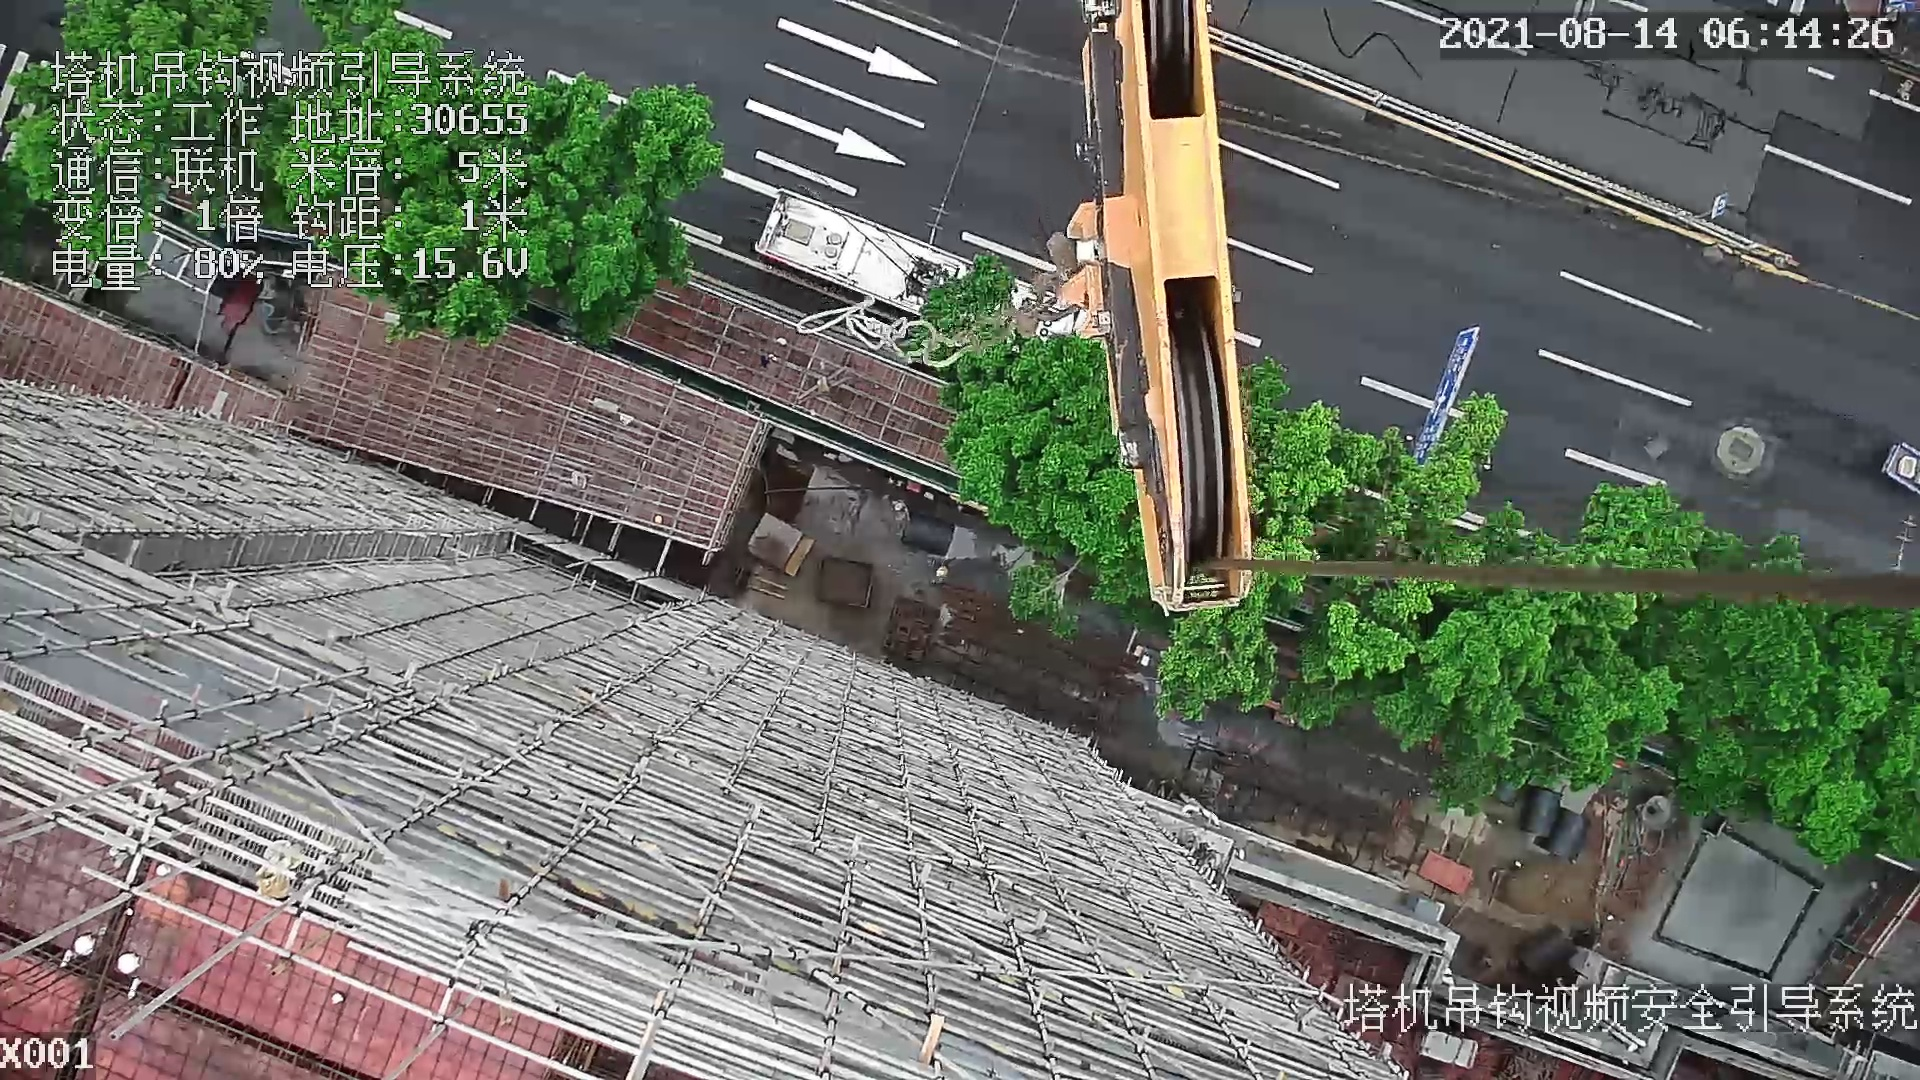hook: (1035, 6, 1273, 615)
person: (887, 495, 915, 525)
